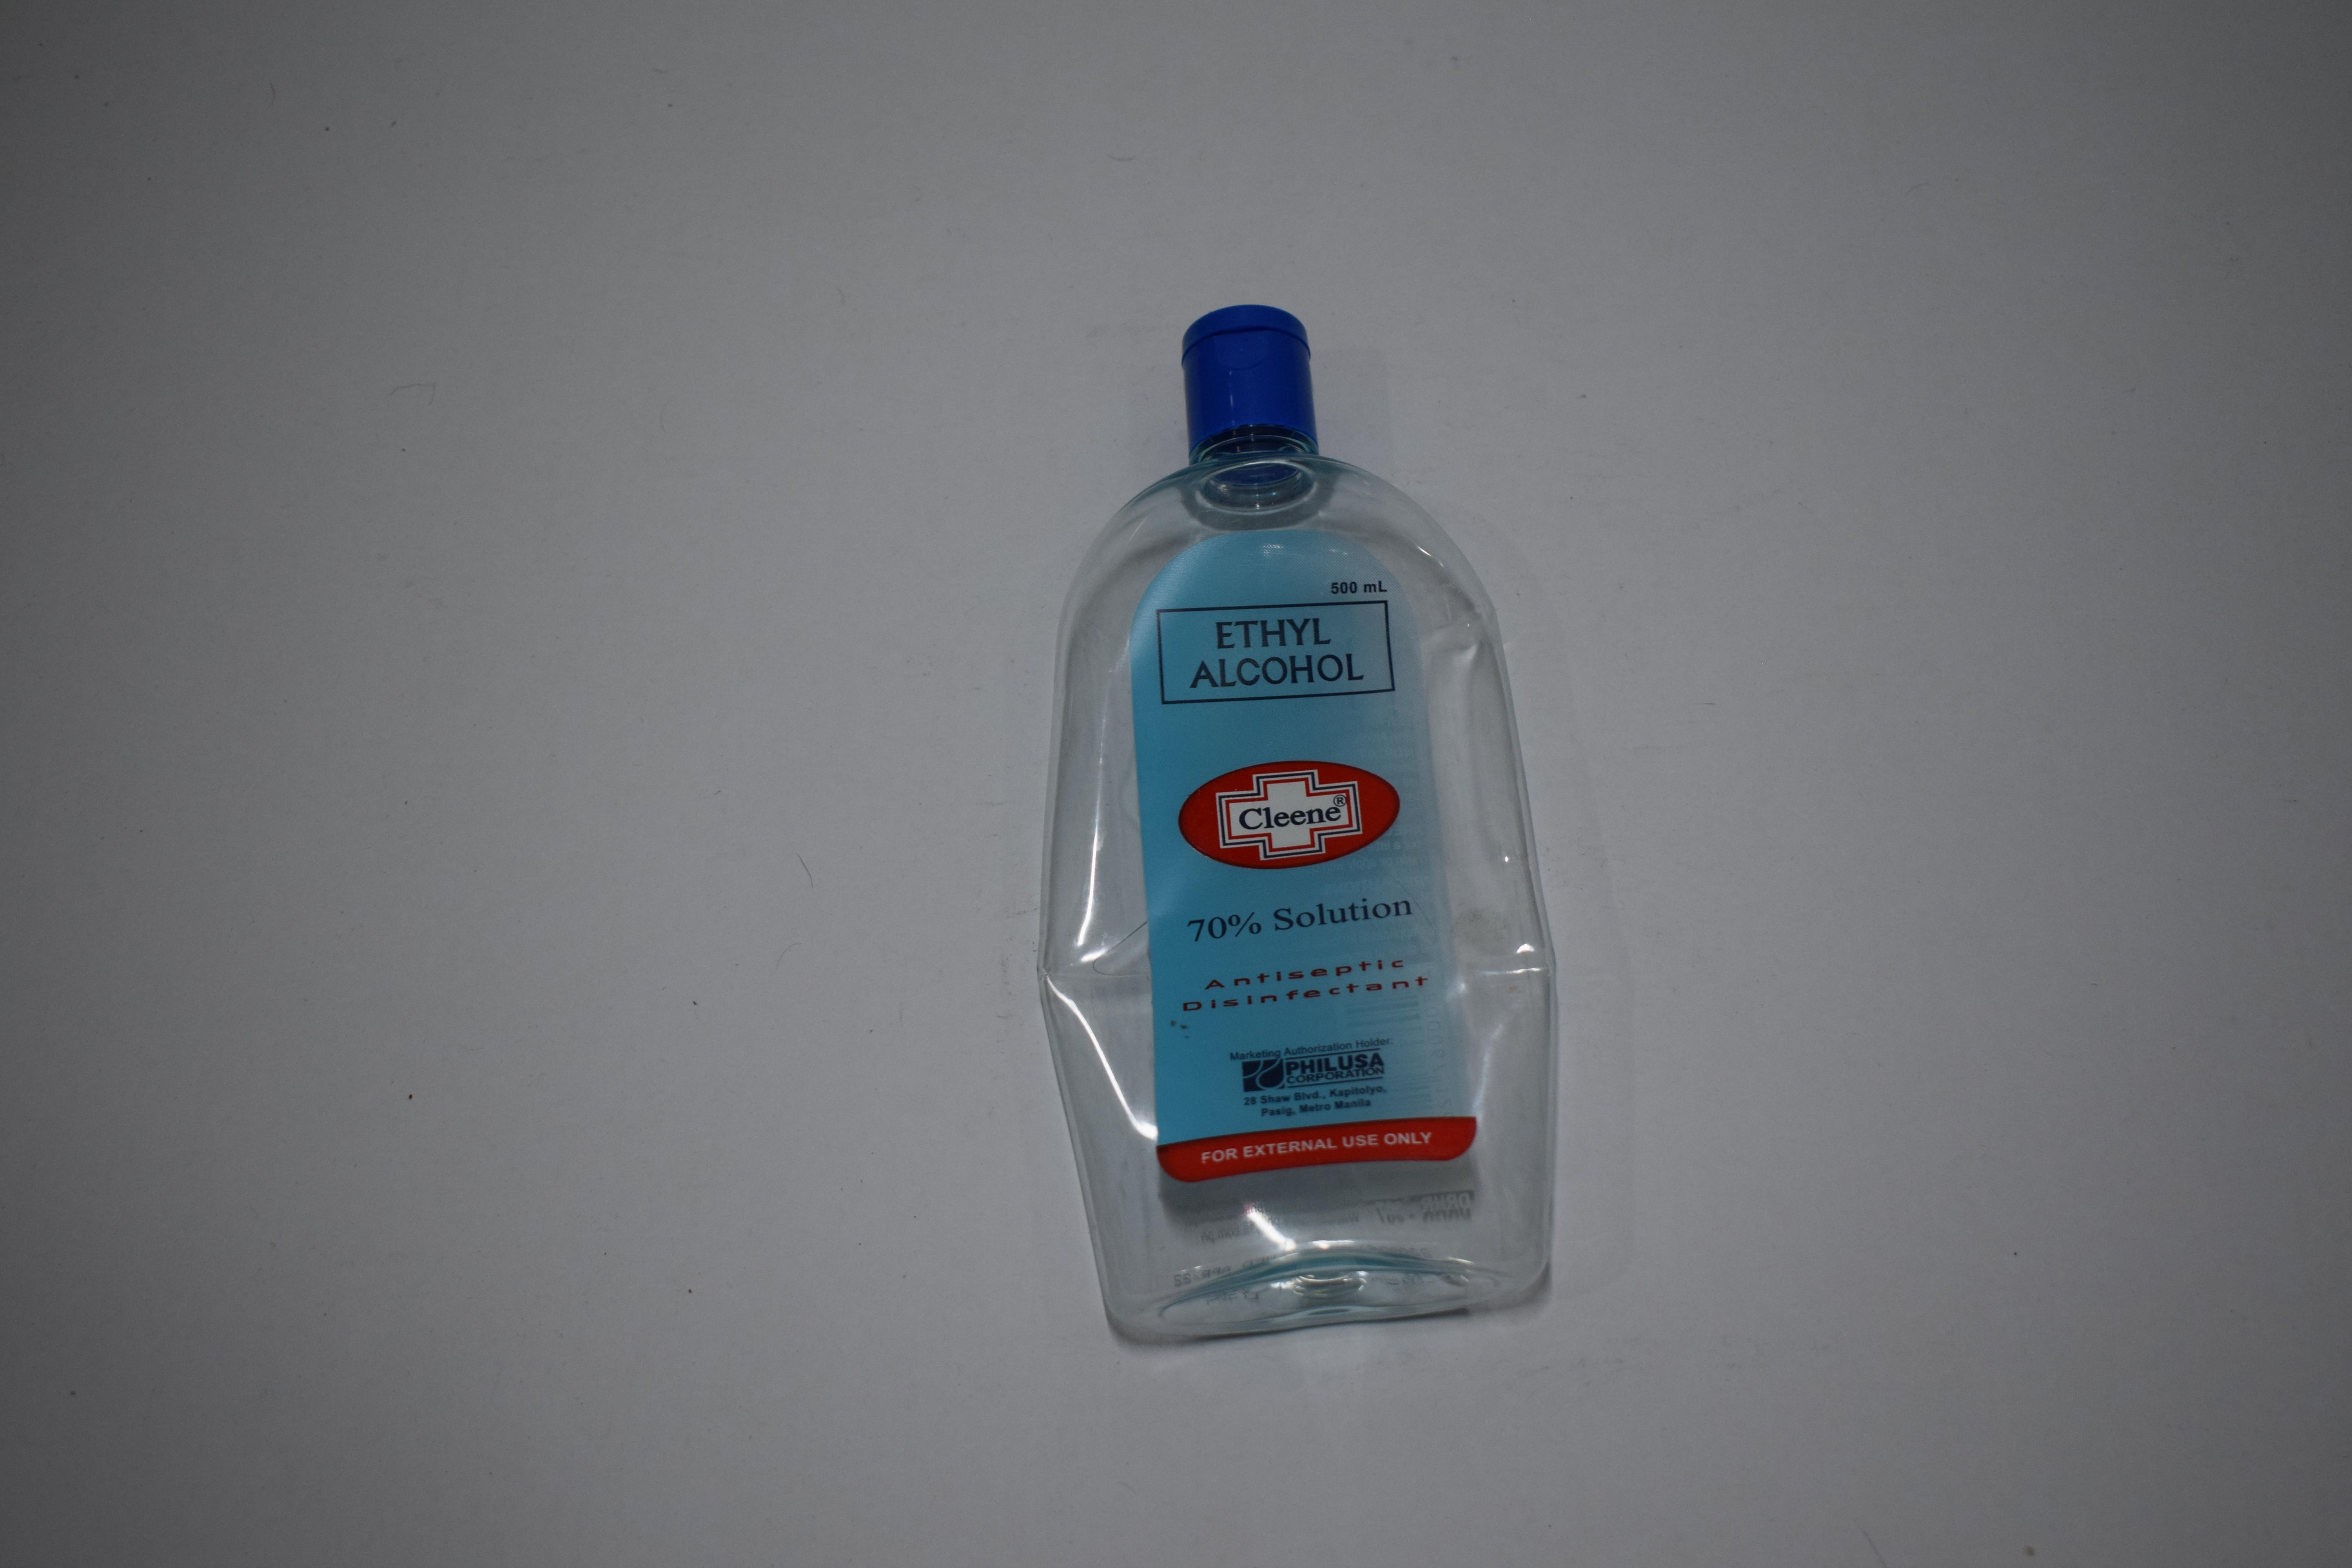bottle: (0, 0, 271, 567)
